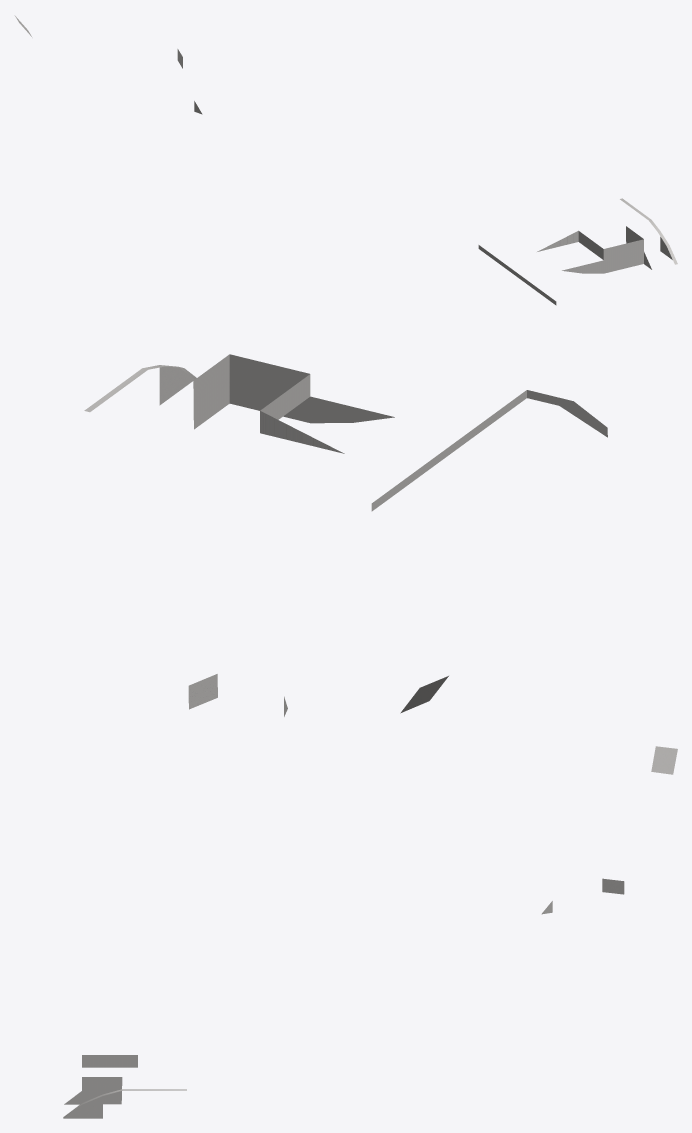
File: kd_stage_1366d7_0_16.glb
The picture shows the model from 3 angles, top to bottom: view 1: azimuth 30°, elevation 25°; view 2: azimuth 150°, elevation 25°; view 3: azimuth 270°, elevation 25°; orthographic projection. The views are drawn at different scales.
Visible parts, largest first — view 1: kd_stage_1366d7_0_16; view 2: kd_stage_1366d7_0_16; view 3: kd_stage_1366d7_0_16.
Boxes of the visible parts, x1,y1,x2,y2 form: kd_stage_1366d7_0_16: (14, 15, 677, 305); kd_stage_1366d7_0_16: (84, 354, 607, 716); kd_stage_1366d7_0_16: (63, 746, 677, 1118).
Bounding box in the file's own units: 66.53 × 23.11 × 87.38.
1 material, 1 textured.
